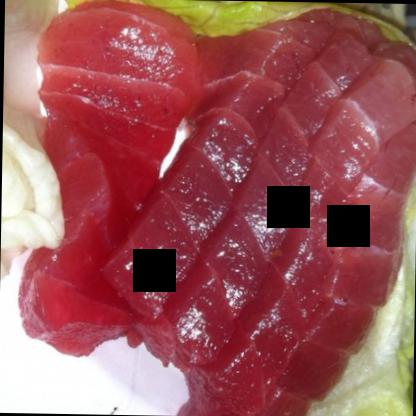tuna: (12, 0, 415, 415)
